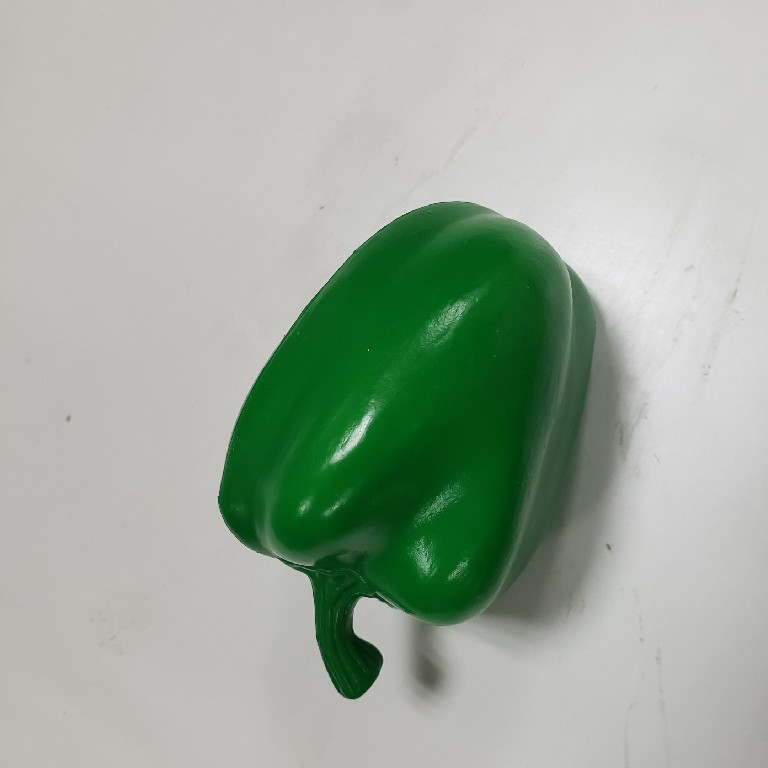fruit_pepper: (212, 196, 598, 705)
